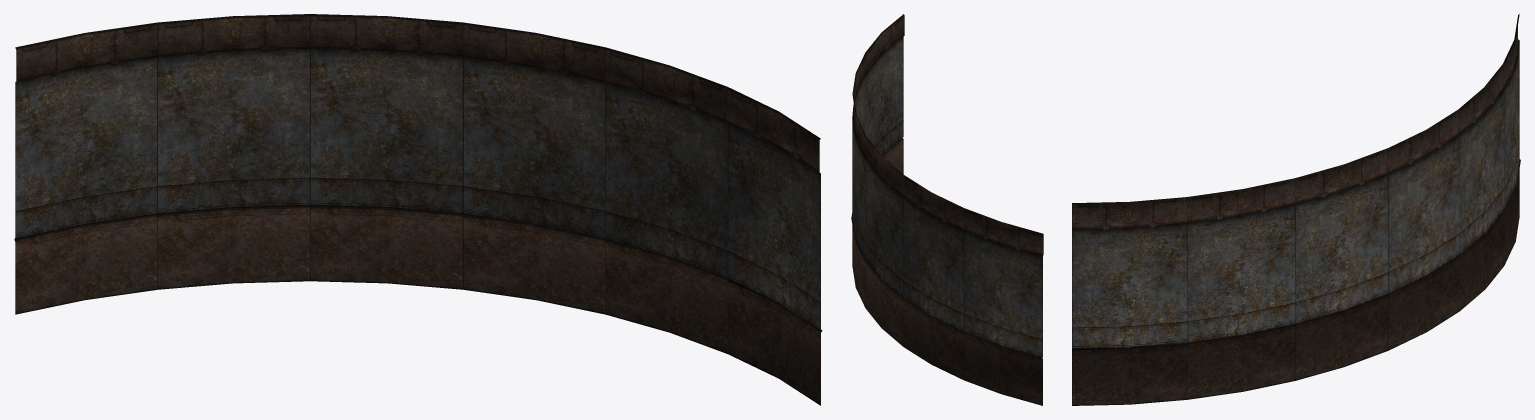
The model's file is datasite_concave_large01_brown_overgrown.DAE.
3 views of the same model, side by side, from view 1: azimuth 30°, elevation 25°; view 2: azimuth 150°, elevation 25°; view 3: azimuth 270°, elevation 25° (orthographic). The views are drawn at different scales.
Visible parts, largest first — view 1: polySurface35; view 2: polySurface35; view 3: polySurface35.
Boxes of the visible parts, x1,y1,x2,y2 form: polySurface35: [14, 14, 822, 405]; polySurface35: [851, 14, 1043, 405]; polySurface35: [1072, 14, 1520, 405].
Size of the model in its own units: 8.03 by 4 by 8.02.
